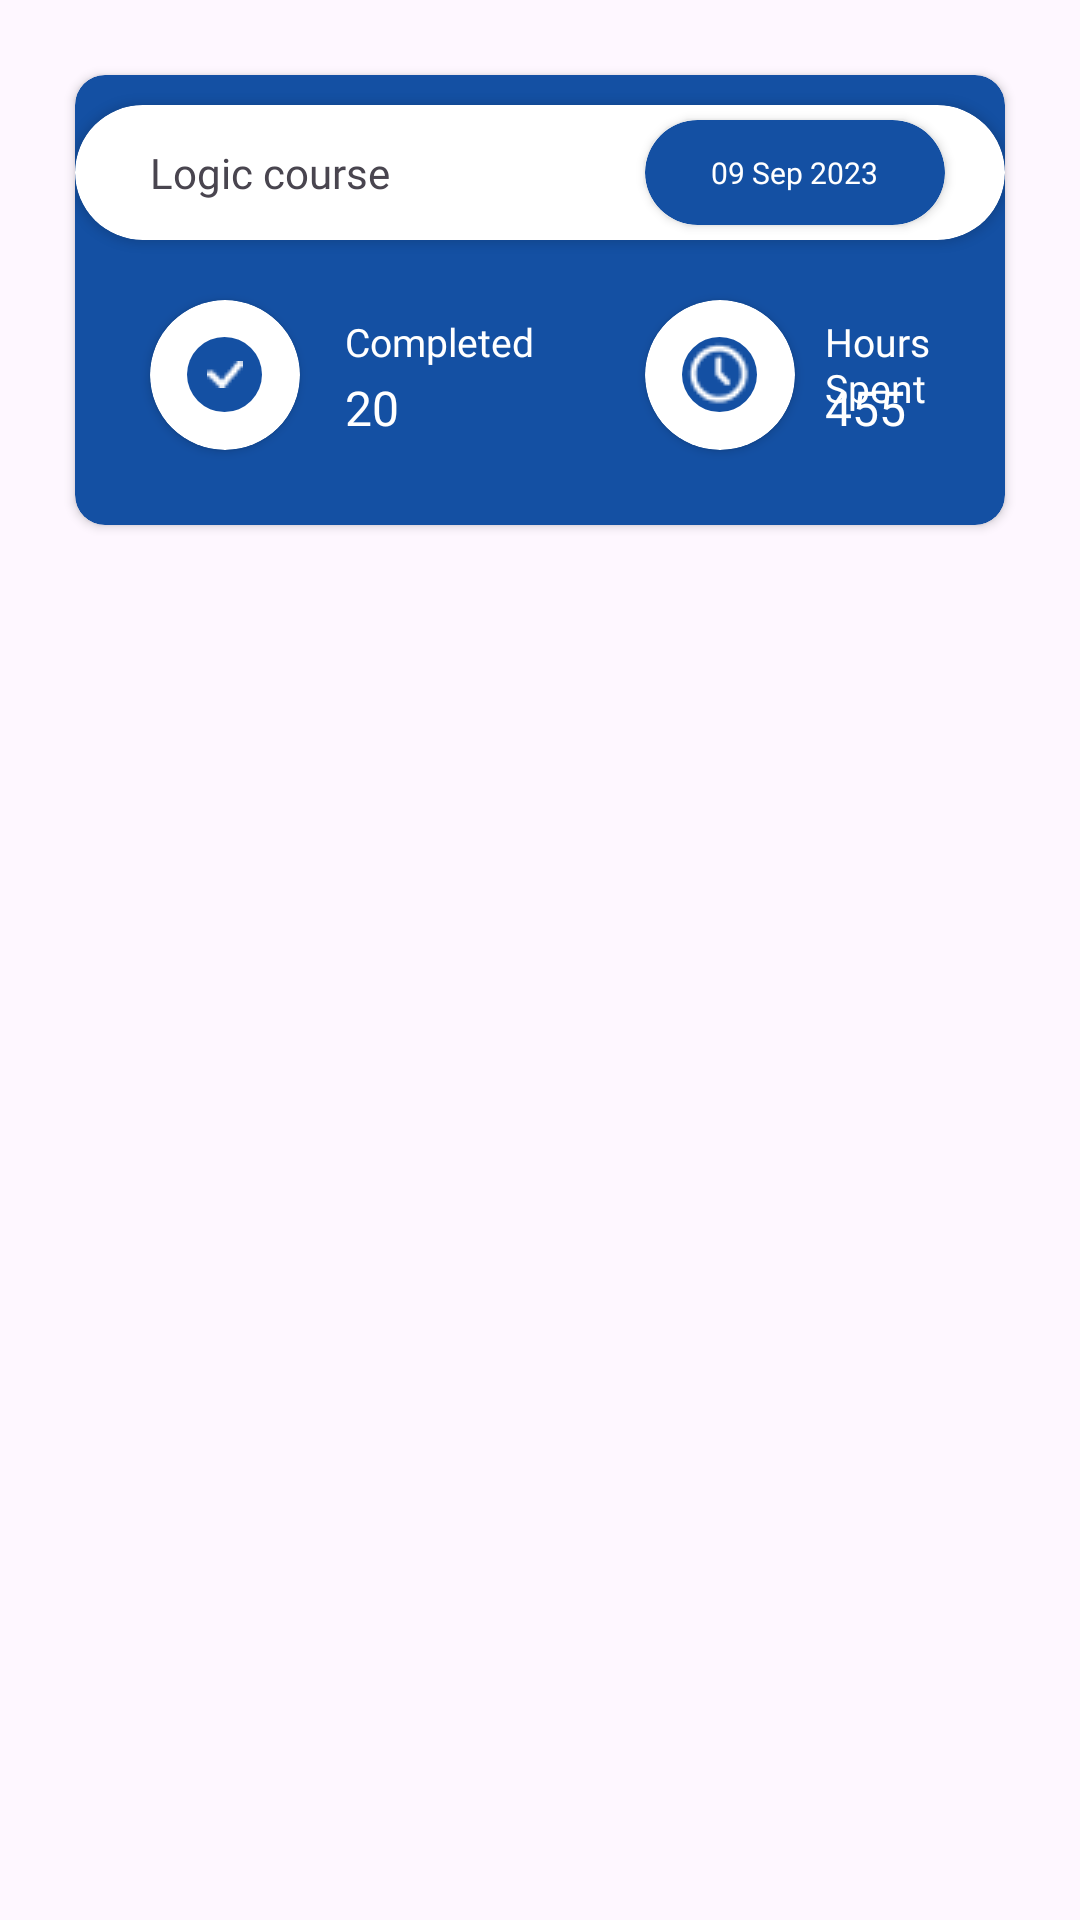

Screen size 1080 x 1920. Icon name, then its box in pixels as (x1, y1, x2, y2):
centang: (207, 361, 243, 388)
clock: (685, 340, 754, 409)
